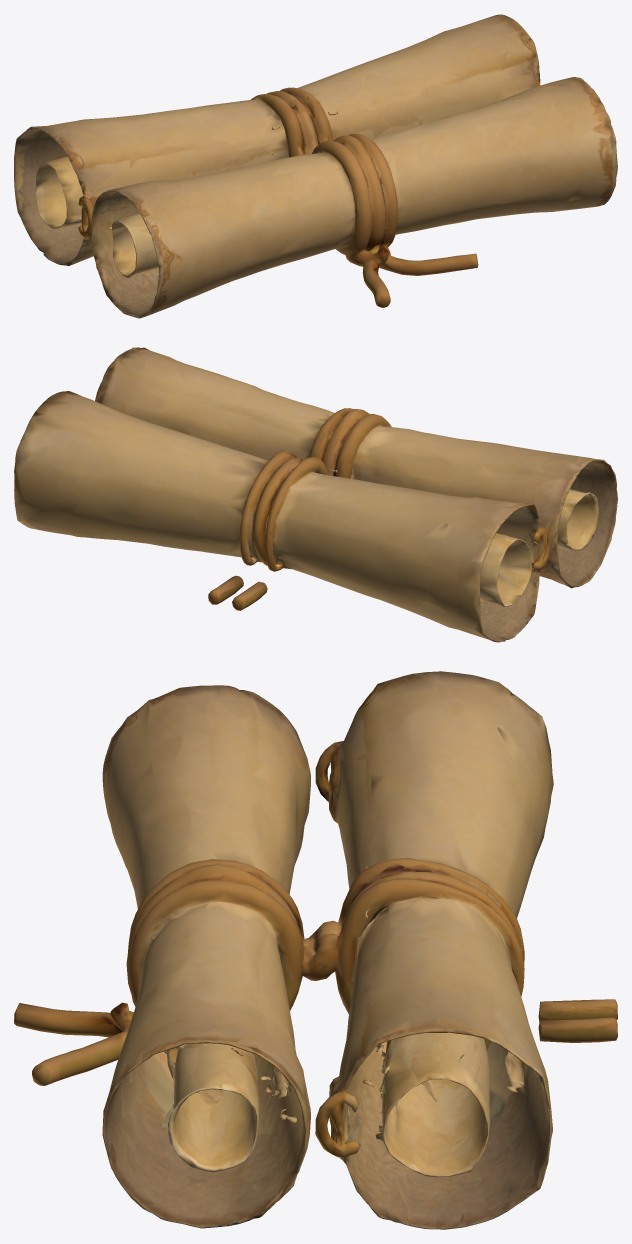
Rendered from Scrolls_Tied_Together_1016020404_texture.fbx.
3 views of the same model, one above another, from view 1: azimuth 30°, elevation 25°; view 2: azimuth 150°, elevation 25°; view 3: azimuth 270°, elevation 25° (orthographic). The views are drawn at different scales.
Parts seen in each view (by area): view 1: input; view 2: input; view 3: input.
Part boxes in pixels (x1,y1,x2,y2): input: (14, 14, 617, 318); input: (14, 347, 617, 642); input: (14, 671, 617, 1229).
Bounding box in the file's own units: 190 × 49.73 × 135.
1 material, 1 textured.
